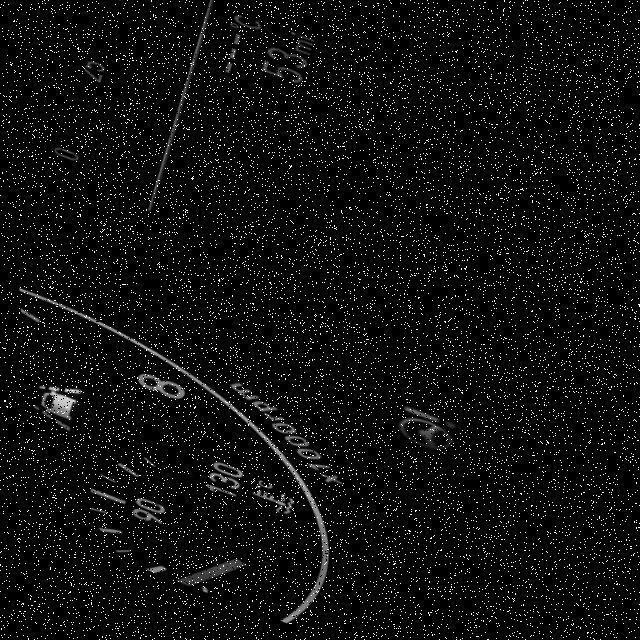Electronic Power Steering: (366, 391, 476, 473)
